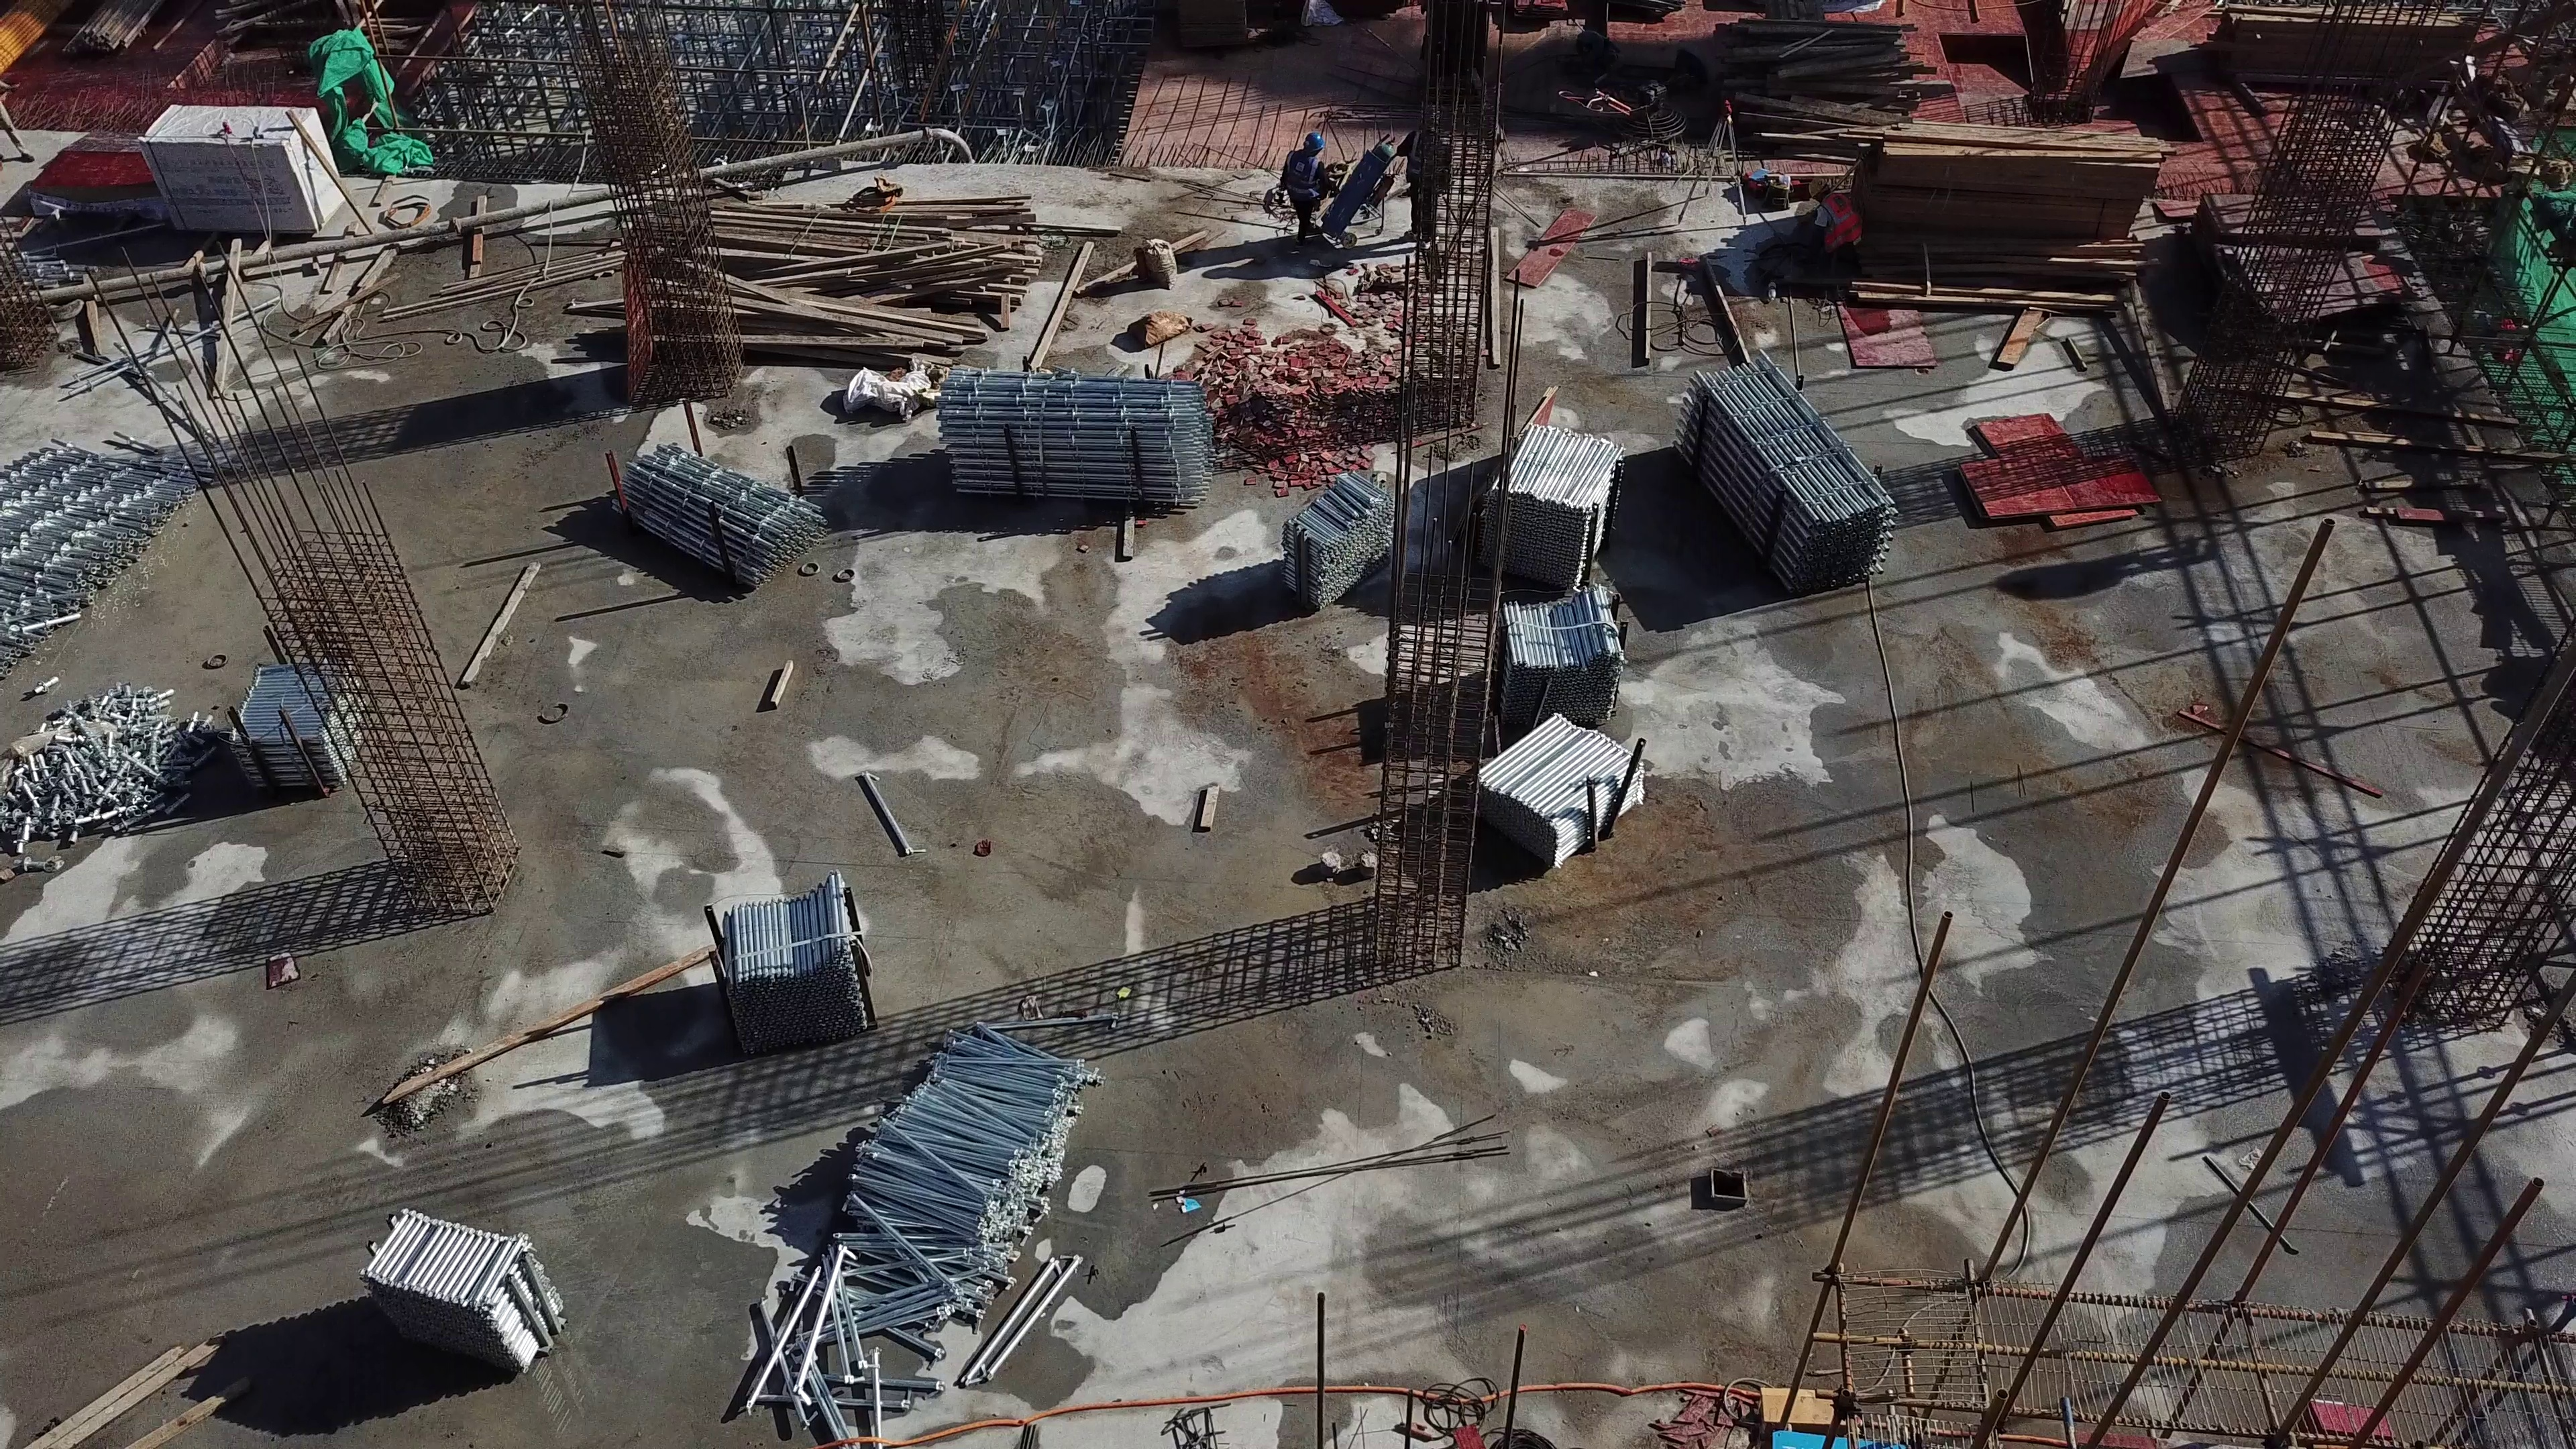board: (1953, 421, 2166, 536), (1827, 305, 1944, 374)
helmet: (1299, 133, 1329, 158), (1805, 173, 1827, 198)
person: (1277, 129, 1340, 246), (1401, 100, 1448, 248), (1800, 175, 1859, 280)
scaffold: (738, 1015, 1146, 1436), (1, 421, 215, 664), (1687, 356, 1892, 609), (920, 365, 1222, 531), (1, 685, 246, 845), (356, 1211, 574, 1371), (607, 449, 847, 592), (1431, 710, 1653, 857), (686, 884, 867, 1039), (1474, 413, 1620, 590), (1271, 472, 1399, 625), (227, 650, 363, 788), (1478, 590, 1624, 716)
vest: (1275, 149, 1322, 207), (1814, 195, 1858, 247)
wood: (718, 199, 1024, 359), (1879, 126, 2149, 303), (1702, 20, 1933, 136)
